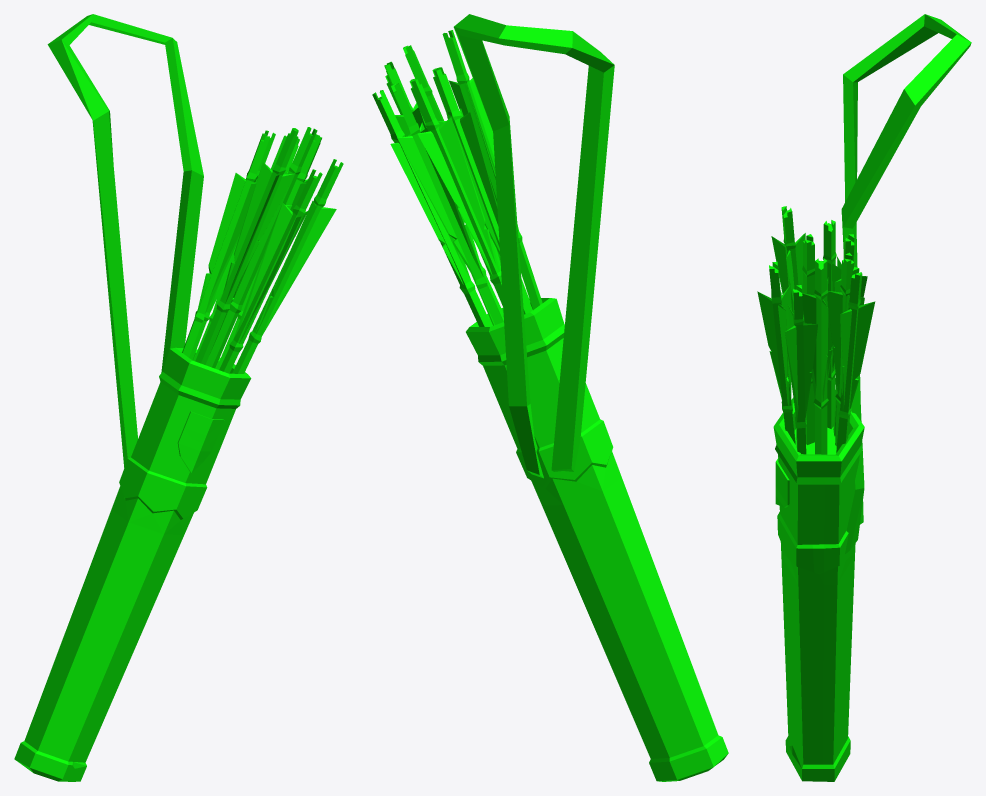
Rendered from SM_Quiver_Arrow_Full_Color_Placed_Fantasy.fbx.
The picture shows the model from 3 angles, left to right: view 1: azimuth 30°, elevation 25°; view 2: azimuth 150°, elevation 25°; view 3: azimuth 270°, elevation 25°; orthographic projection. The views are drawn at different scales.
Parts seen in each view (by area): view 1: quiver-arrow-full-color-placed-fantasy; view 2: quiver-arrow-full-color-placed-fantasy; view 3: quiver-arrow-full-color-placed-fantasy.
Part boxes in pixels (x1=…): quiver-arrow-full-color-placed-fantasy: x1=14, y1=14, x2=343, y2=781; quiver-arrow-full-color-placed-fantasy: x1=372, y1=14, x2=728, y2=781; quiver-arrow-full-color-placed-fantasy: x1=757, y1=14, x2=971, y2=781.
Size of the model in its own units: 0.5572 by 1.19 by 0.2929.
